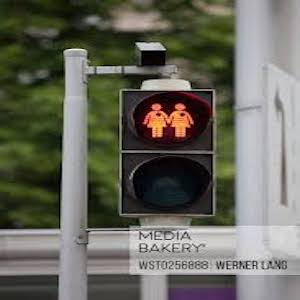red: (140, 101, 193, 141)
